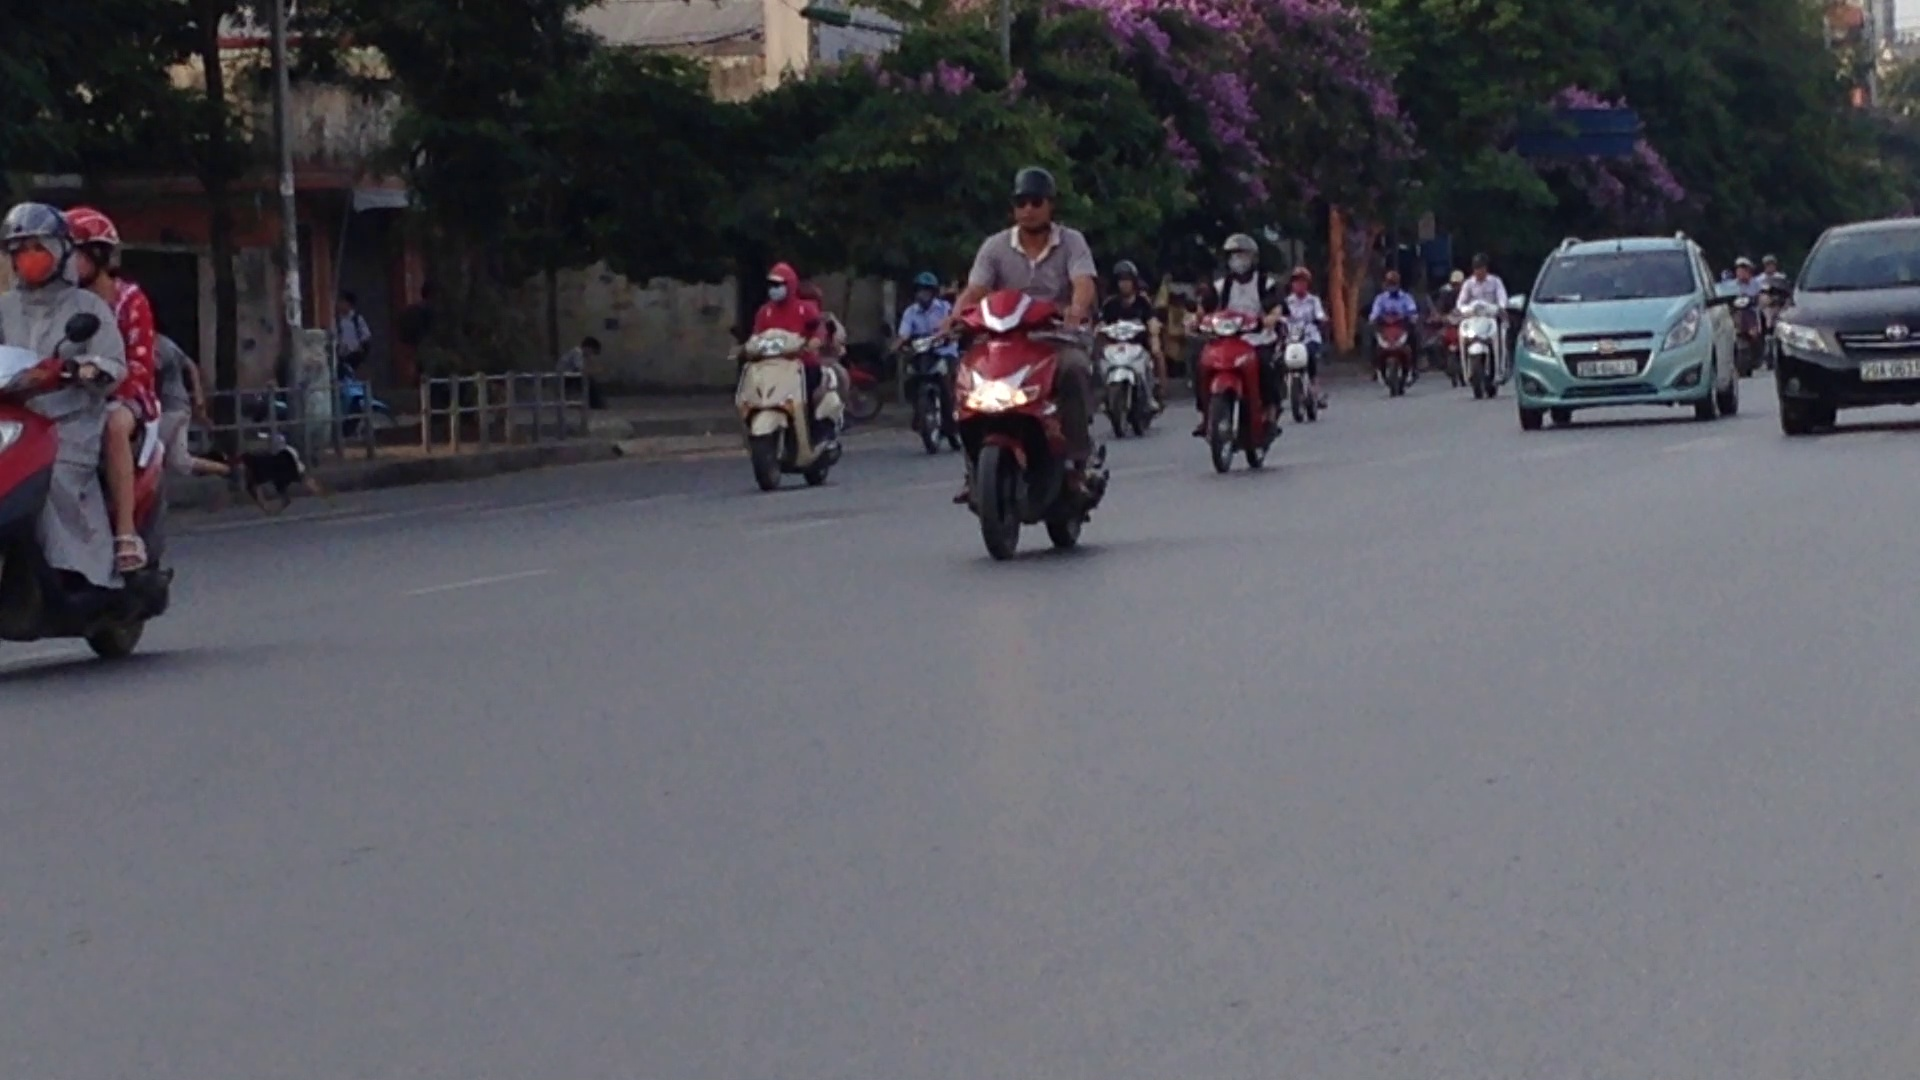person: (1859, 357, 1920, 381)
